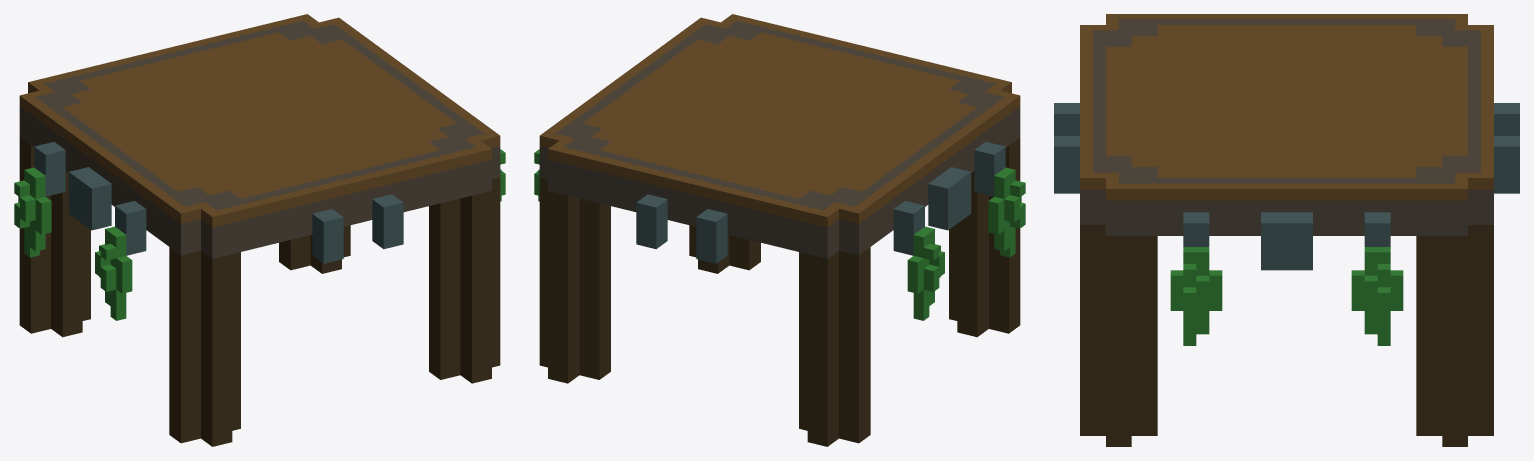
The model's file is WorkBench-2.obj.
3 views of the same model, side by side, from view 1: azimuth 30°, elevation 25°; view 2: azimuth 150°, elevation 25°; view 3: azimuth 270°, elevation 25° (orthographic). The views are drawn at different scales.
Bounding box in the file's own units: 4 × 2.2 × 3.6.
Materials: 1 (1 with a texture image).
